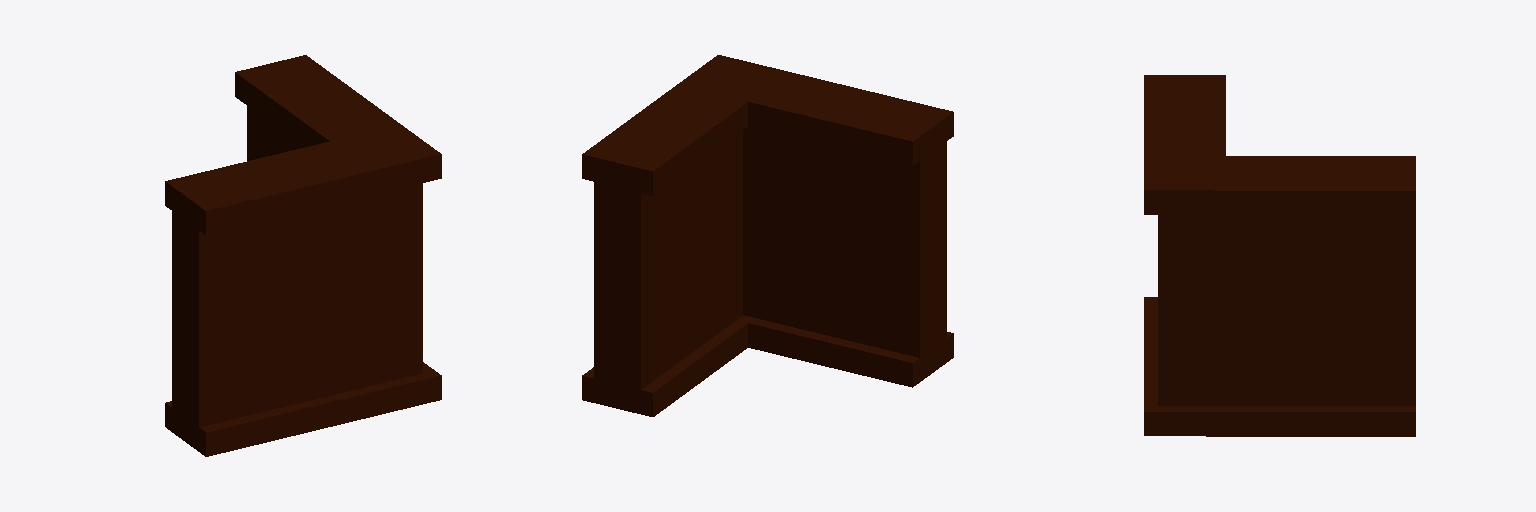
The model's file is 2x2_wall_corner.obj.
3 views of the same model, side by side, from view 1: azimuth 30°, elevation 25°; view 2: azimuth 150°, elevation 25°; view 3: azimuth 270°, elevation 25° (orthographic).
Parts seen in each view (by area): view 1: wall; view 2: wall; view 3: wall.
Boxes of the visible parts, <box> form: wall: <box>165,55,441,456</box>; wall: <box>582,55,953,416</box>; wall: <box>1144,75,1415,436</box>.
Size of the model in its own units: 2 by 2 by 2.